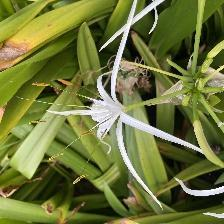spider lily: (45, 1, 206, 213)
